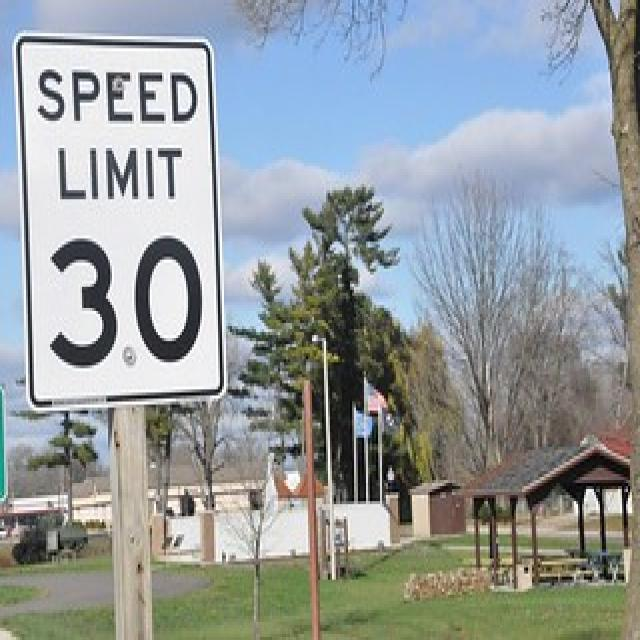speedLimit35: (16, 27, 222, 414)
